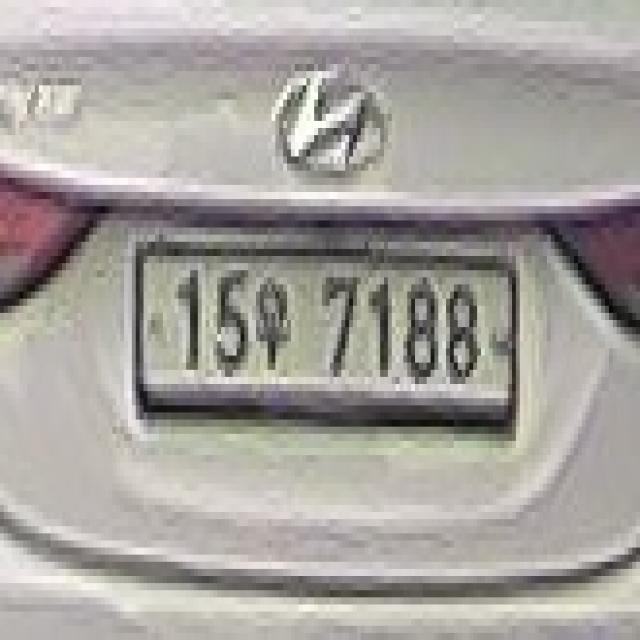1: (170, 263, 210, 377), (364, 270, 396, 384)
5: (213, 263, 252, 384)
7: (318, 263, 361, 384)
8: (442, 277, 485, 398), (400, 270, 442, 391)
license_plate: (124, 228, 528, 448)
u: (256, 263, 291, 377)
